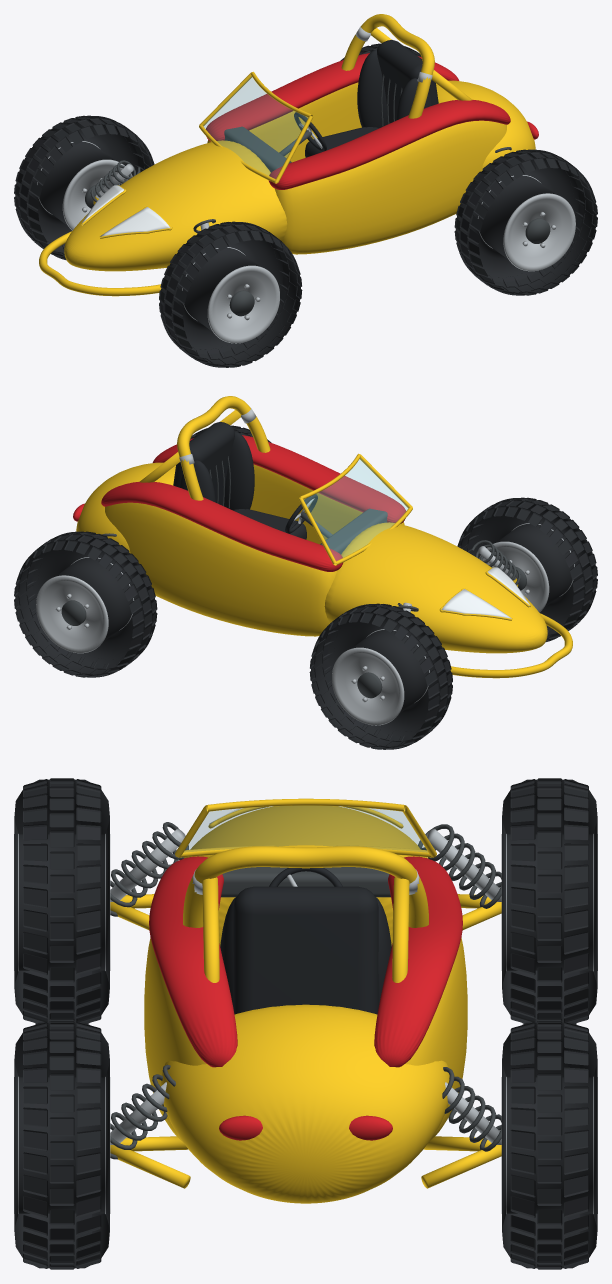
File: buggy-b-concept.glb
3 renders of one model, top to bottom at view 1: azimuth 30°, elevation 25°; view 2: azimuth 150°, elevation 25°; view 3: azimuth 270°, elevation 25°, orthographic. The views are drawn at different scales.
Visible parts, largest first — view 1: C sculpted yellow side fairing, C tapered yellow bonnet, C wheel rear -1 closed rubber tire, C wheel front -1 closed rubber tire, C red cockpit shoulder, C wheel rear -1 staggered tread blocks, C wheel front -1 staggered tread blocks, C curved cyan windshield, C wheel front 1 closed rubber tire, C wheel front 1 staggered tread blocks, C red cockpit shoulder.001, C wheel front -1 dished alloy rim (+15 smaller); view 2: C sculpted yellow side fairing.001, C tapered yellow bonnet, C wheel rear 1 closed rubber tire, C wheel front 1 closed rubber tire, C red cockpit shoulder.001, C wheel rear 1 staggered tread blocks, C wheel front 1 staggered tread blocks, C curved cyan windshield, C wheel front -1 closed rubber tire, C wheel front -1 staggered tread blocks, C red cockpit shoulder, C wheel front 1 dished alloy rim.001 (+15 smaller); view 3: C rounded rear engine cover, C bucket seat back, C wheel rear 1 staggered tread blocks, C wheel rear -1 staggered tread blocks, C wheel front 1 staggered tread blocks, C wheel front -1 staggered tread blocks, C red cockpit shoulder, C red cockpit shoulder.001, C curved cyan windshield, C wheel rear 1 closed rubber tire, C wheel rear -1 closed rubber tire, C wheel front 1 closed rubber tire (+26 smaller).
Boxes of the visible parts, <box> form: C sculpted yellow side fairing: <box>275,120,506,254</box>; C tapered yellow bonnet: <box>64,140,287,271</box>; C wheel rear -1 closed rubber tire: <box>455,149,596,295</box>; C wheel front -1 closed rubber tire: <box>160,222,300,367</box>; C red cockpit shoulder: <box>268,100,510,189</box>; C wheel rear -1 staggered tread blocks: <box>454,149,597,295</box>; C wheel front -1 staggered tread blocks: <box>159,221,302,367</box>; C curved cyan windshield: <box>203,76,307,178</box>; C wheel front 1 closed rubber tire: <box>15,116,152,260</box>; C wheel front 1 staggered tread blocks: <box>14,115,154,259</box>; C red cockpit shoulder.001: <box>206,53,459,141</box>; C wheel front -1 dished alloy rim: <box>207,265,279,343</box>; C sculpted yellow side fairing.001: <box>105,502,336,636</box>; C tapered yellow bonnet: <box>324,522,547,653</box>; C wheel rear 1 closed rubber tire: <box>15,531,156,677</box>; C wheel front 1 closed rubber tire: <box>311,604,451,749</box>; C red cockpit shoulder.001: <box>101,482,343,571</box>; C wheel rear 1 staggered tread blocks: <box>14,531,157,677</box>; C wheel front 1 staggered tread blocks: <box>309,603,452,749</box>; C curved cyan windshield: <box>304,458,408,560</box>; C wheel front -1 closed rubber tire: <box>459,498,596,642</box>; C wheel front -1 staggered tread blocks: <box>457,497,597,641</box>; C red cockpit shoulder: <box>152,435,405,523</box>; C wheel front 1 dished alloy rim.001: <box>332,647,404,725</box>; C rounded rear engine cover: <box>160,1004,449,1203</box>; C bucket seat back: <box>233,886,378,1014</box>; C wheel rear 1 staggered tread blocks: <box>510,1021,588,1269</box>; C wheel rear -1 staggered tread blocks: <box>23,1021,101,1269</box>; C wheel front 1 staggered tread blocks: <box>510,778,588,1023</box>; C wheel front -1 staggered tread blocks: <box>23,778,101,1023</box>; C red cockpit shoulder: <box>149,856,237,1067</box>; C red cockpit shoulder.001: <box>374,856,462,1067</box>; C curved cyan windshield: <box>184,806,427,852</box>; C wheel rear 1 closed rubber tire: <box>502,1022,597,1268</box>; C wheel rear -1 closed rubber tire: <box>14,1022,109,1268</box>; C wheel front 1 closed rubber tire: <box>502,779,597,1023</box>.
Size of the model in its own units: 3.14 by 1.41 by 2.01.
